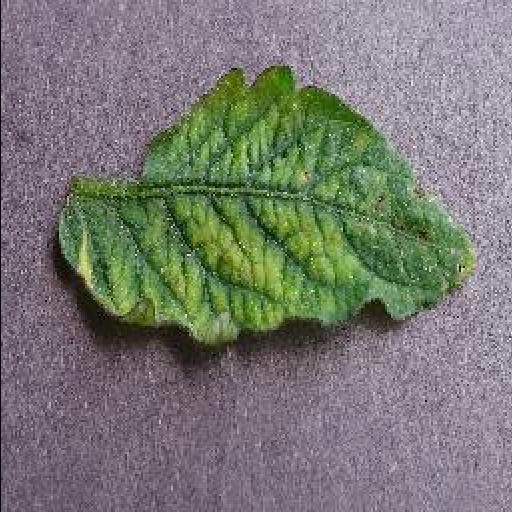disease_tomato: (46, 58, 490, 344)
